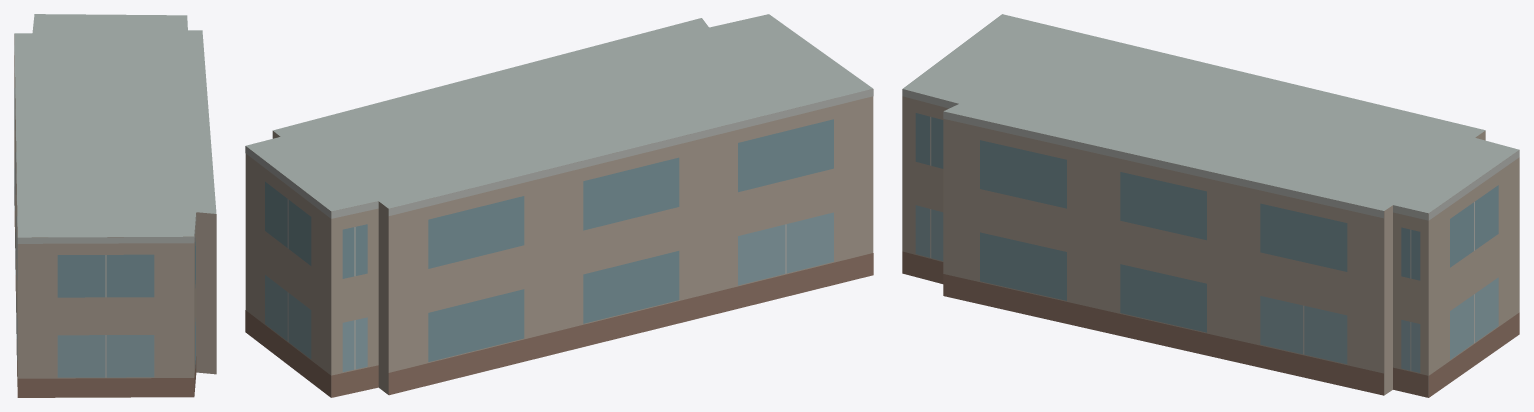
File: survey-upis-32644441.glb
The picture shows the model from 3 angles, left to right: view 1: azimuth 30°, elevation 25°; view 2: azimuth 150°, elevation 25°; view 3: azimuth 270°, elevation 25°; orthographic projection. The views are drawn at different scales.
Visible parts, largest first — view 1: survey-upis-32644441.tmp; view 2: survey-upis-32644441.tmp; view 3: survey-upis-32644441.tmp.
Part boxes in pixels (<box>): survey-upis-32644441.tmp: <box>14,14,216,397</box>; survey-upis-32644441.tmp: <box>245,14,873,397</box>; survey-upis-32644441.tmp: <box>902,14,1519,397</box>.
Bounding box in the file's own units: 14.14 × 6.1 × 18.5.
